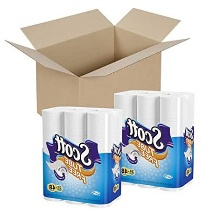book: (0, 0, 195, 119)
tissue: (36, 100, 129, 211), (107, 84, 199, 195)
